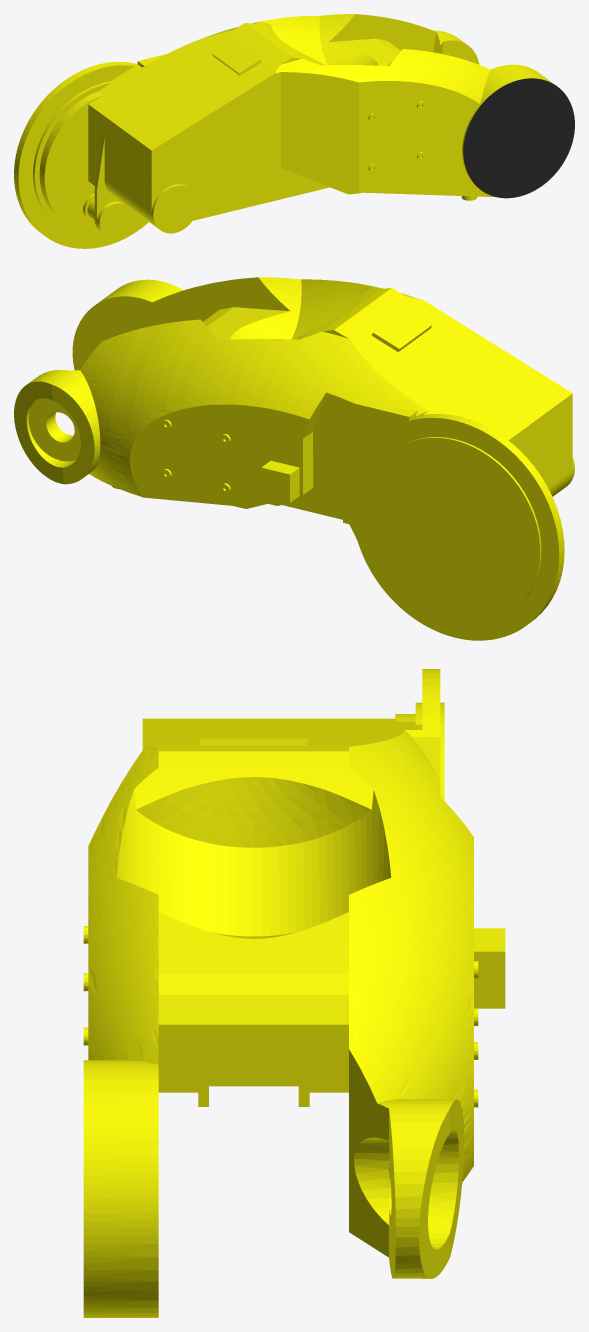
The picture shows the model from 3 angles, top to bottom: view 1: azimuth 30°, elevation 25°; view 2: azimuth 150°, elevation 25°; view 3: azimuth 270°, elevation 25°; orthographic projection. The views are drawn at different scales.
Parts seen in each view (by area): view 1: node; view 2: node; view 3: node.
Boxes of the visible parts, <box> form: node: <box>14,14,574,248</box>; node: <box>14,277,574,640</box>; node: <box>83,669,505,1317</box>.
Bounding box in the file's own units: 2427 × 1018 × 939.
